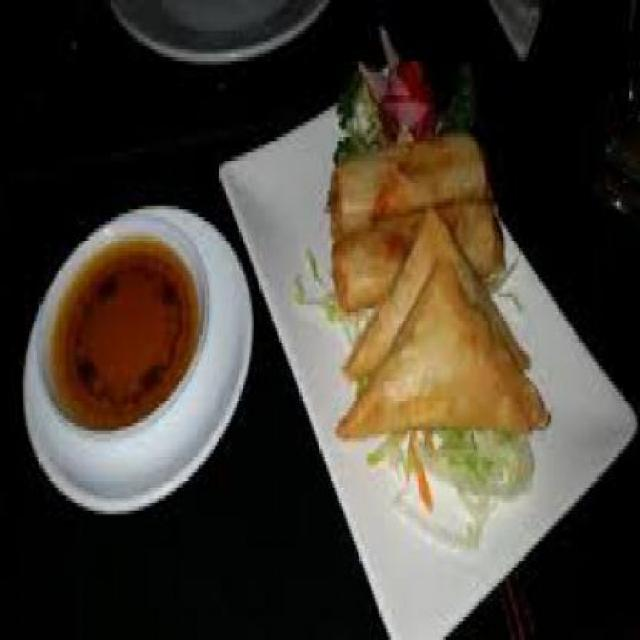samosa: (339, 217, 533, 457)
spring rolls: (330, 118, 508, 305)
